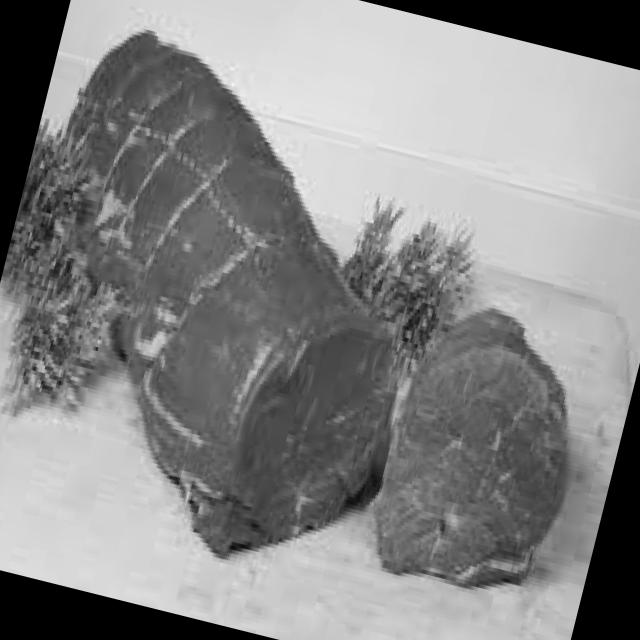thit than: (89, 252, 407, 576), (348, 329, 598, 606)
